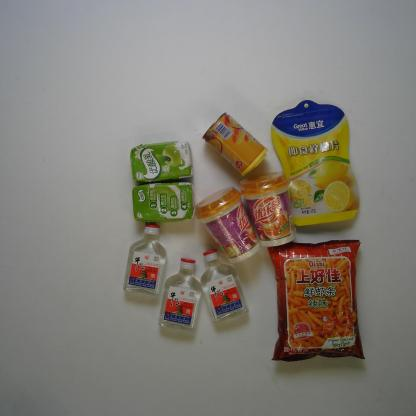Alcohol: (117, 219, 176, 300), (152, 255, 209, 333), (200, 247, 251, 325)
Canned Food: (198, 106, 270, 182)
Dried Fruit: (270, 100, 363, 228)
Instant Drink: (193, 184, 263, 266), (236, 169, 296, 249)
Milk: (128, 137, 194, 185), (131, 180, 196, 224)
Puffed Food: (261, 236, 374, 365)
